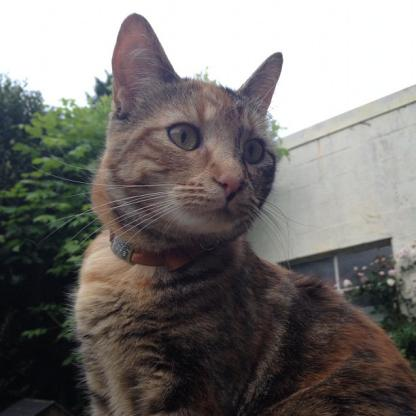Target: (68, 9, 415, 416)
